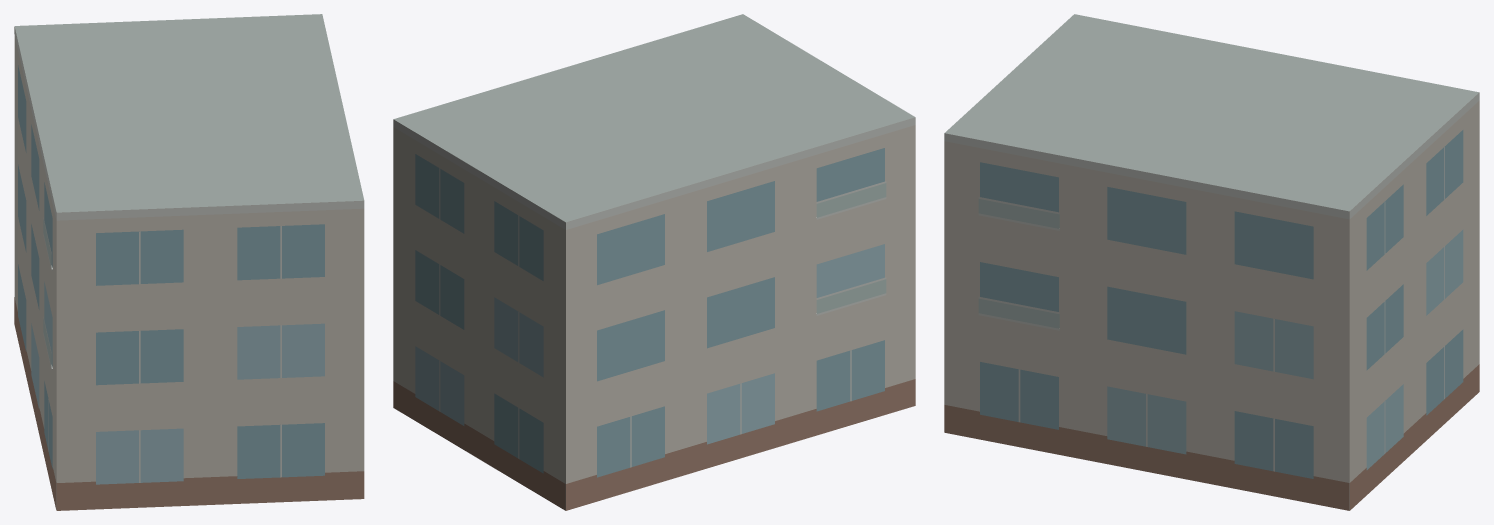
Rendered from survey-upis-32718975.glb.
The picture shows the model from 3 angles, left to right: view 1: azimuth 30°, elevation 25°; view 2: azimuth 150°, elevation 25°; view 3: azimuth 270°, elevation 25°; orthographic projection. The views are drawn at different scales.
Visible parts, largest first — view 1: survey-upis-32718975.tmp; view 2: survey-upis-32718975.tmp; view 3: survey-upis-32718975.tmp.
Boxes of the visible parts, x1=… form: survey-upis-32718975.tmp: x1=14, y1=14, x2=364, y2=510; survey-upis-32718975.tmp: x1=393, y1=14, x2=915, y2=510; survey-upis-32718975.tmp: x1=944, y1=14, x2=1479, y2=510.
Bounding box in the file's own units: 12.95 × 9.15 × 14.83.
